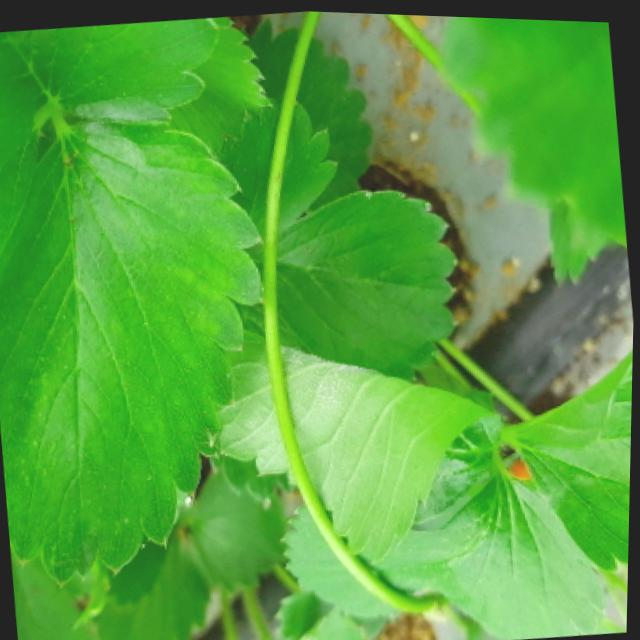Powdery Mildew Leaf: (213, 327, 508, 561)
